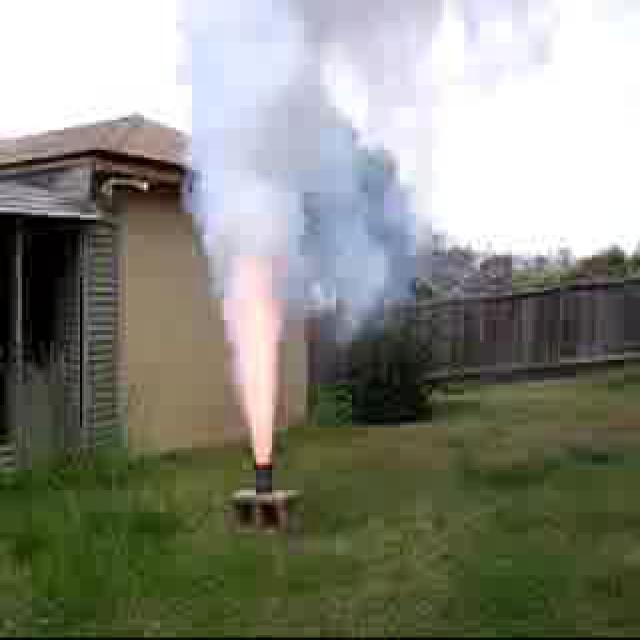Smoke: (182, 27, 294, 452)
